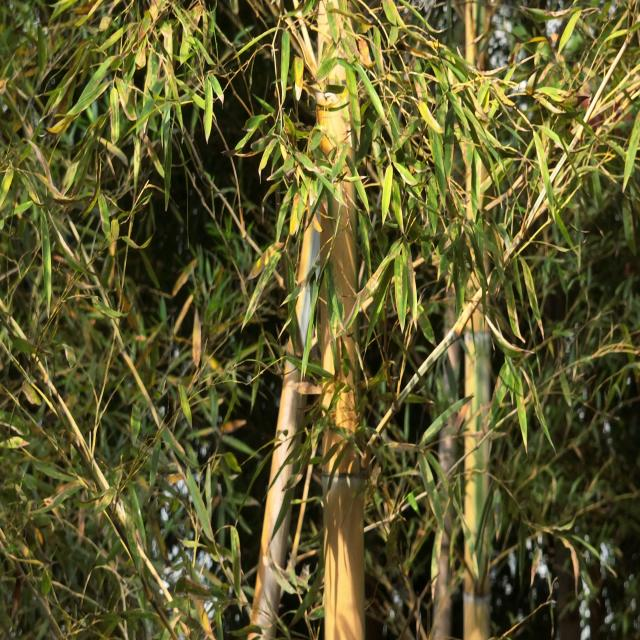Bamboo-shoots: (317, 0, 365, 640)
